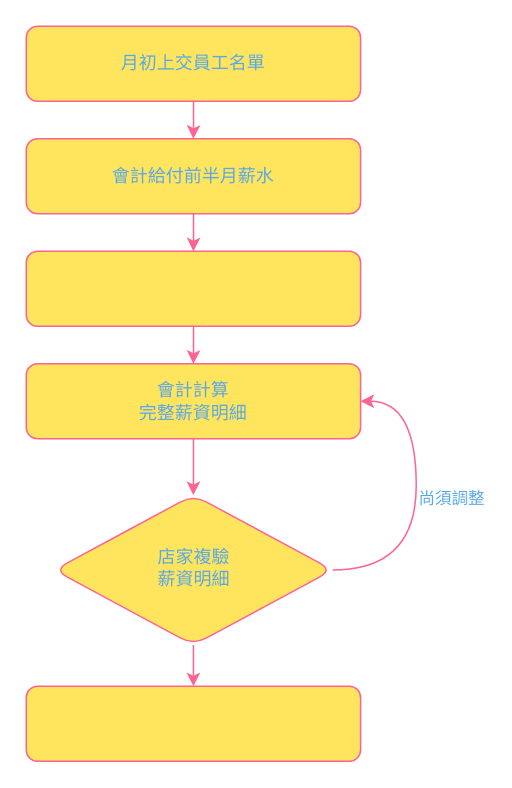
The diagram is 512 pixels wide and 788 high, and some of its shapes have lost their labels. Here are the shapes that lost their labels. From the top down, the centre of each, then its label:
At point 193,288: "月中上交 員工出勤明細".
At point 193,723: "會計發薪".
